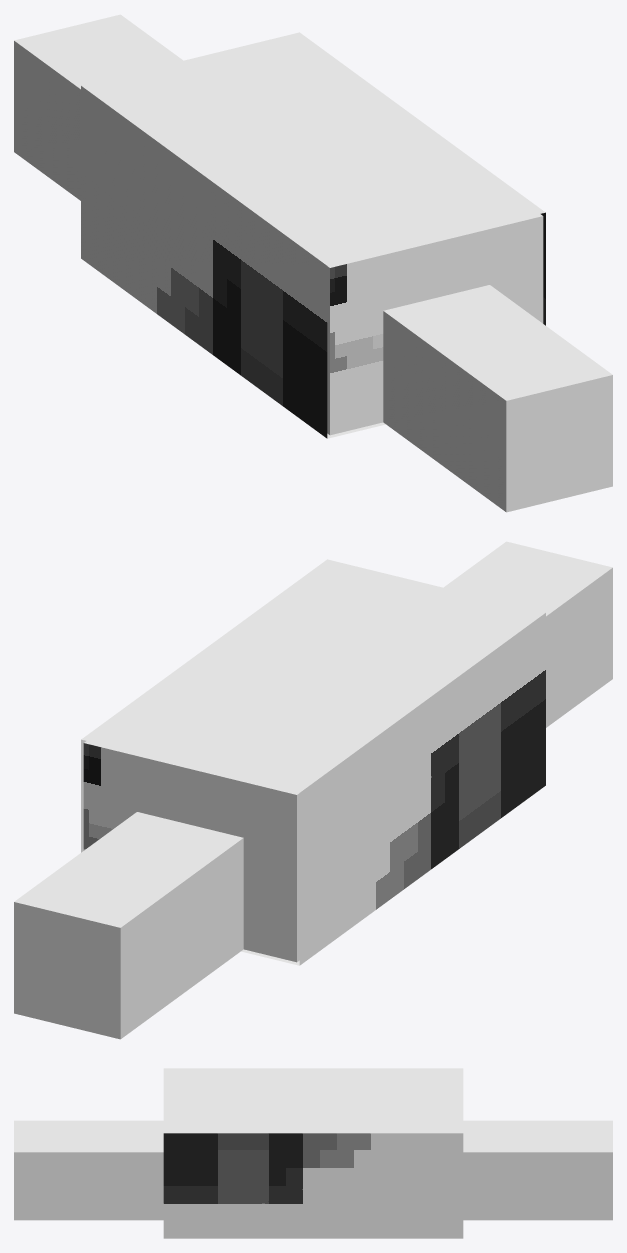
The model's file is diode.obj.
The picture shows the model from 3 angles, top to bottom: view 1: azimuth 30°, elevation 25°; view 2: azimuth 150°, elevation 25°; view 3: azimuth 270°, elevation 25°; orthographic projection. The views are drawn at different scales.
Visible parts, largest first — view 1: core.000; view 2: core.000; view 3: core.000.
Part boxes in pixels (<box>): core.000: <box>14,14,612,512</box>; core.000: <box>14,541,612,1039</box>; core.000: <box>14,1068,612,1238</box>.
Bounding box in the file's own units: 0.2563 × 0.1937 × 1.
